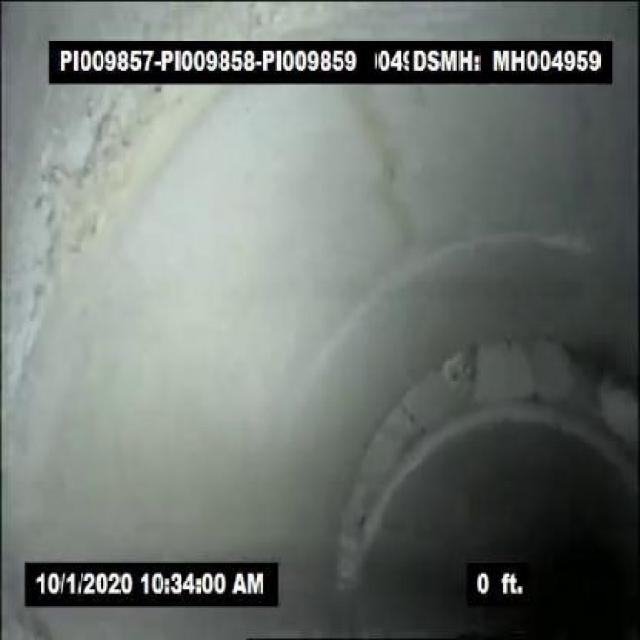Crack: (351, 88, 422, 246)
Joint offset: (404, 332, 638, 457), (337, 400, 400, 594)
